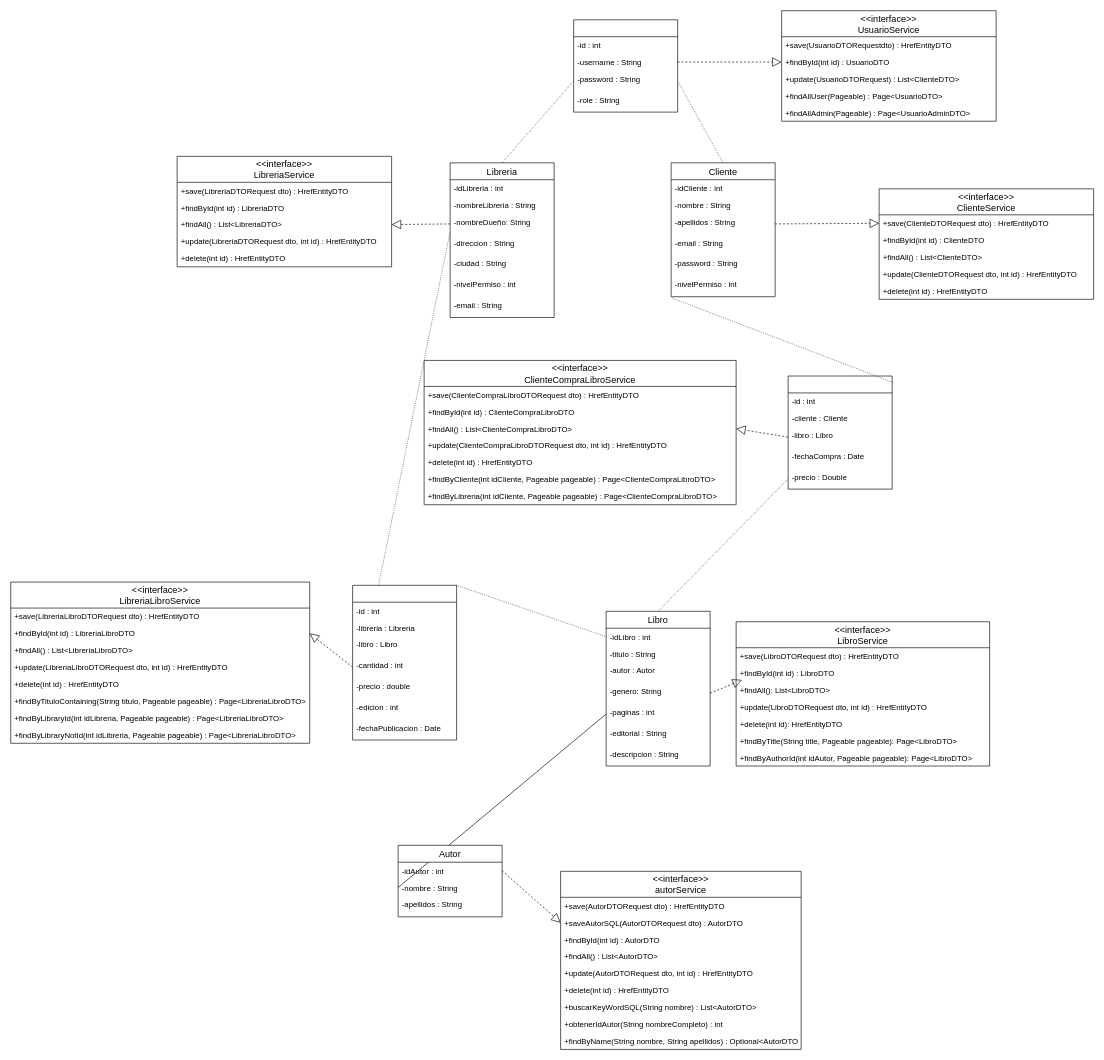
The diagram is 1104 pixels wide and 1060 high, and some of its shapes have lost their labels. Here are the shapes that lost their labels. From the top down, the box of each, then its label:
(573, 19, 678, 112): Usuario
(787, 375, 892, 489): ClienteCompraLibro
(352, 585, 457, 740): LibreriaLibro
